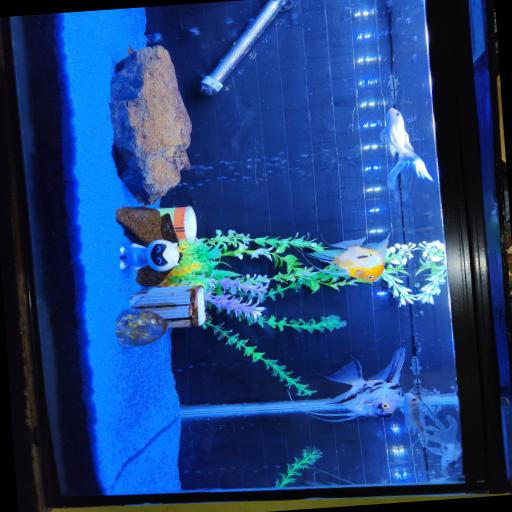Fish: (305, 347, 404, 420), (379, 107, 432, 188), (305, 233, 389, 281), (426, 414, 460, 469), (402, 392, 424, 437)
